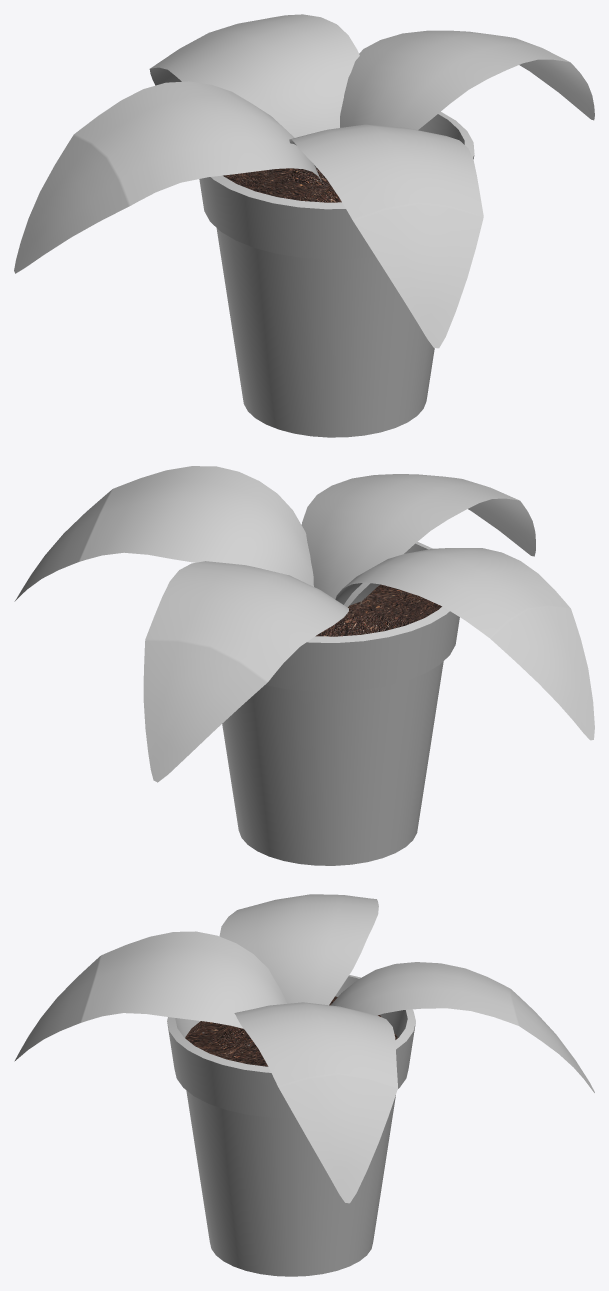
File: Potted Plant.fbx
3 renders of one model, top to bottom at view 1: azimuth 30°, elevation 25°; view 2: azimuth 150°, elevation 25°; view 3: azimuth 270°, elevation 25°, orthographic. The views are drawn at different scales.
Visible parts, largest first — view 1: Leaves, Base; view 2: Leaves, Base; view 3: Leaves, Base.
Boxes of the visible parts, left/top/right/bottom form: Leaves: left=14, top=14, right=594, bottom=348; Base: left=199, top=112, right=474, bottom=437; Leaves: left=14, top=466, right=594, bottom=782; Base: left=222, top=542, right=459, bottom=865; Leaves: left=14, top=894, right=594, bottom=1203; Base: left=167, top=975, right=415, bottom=1276.
Size of the model in its own units: 736 by 381 by 711.
